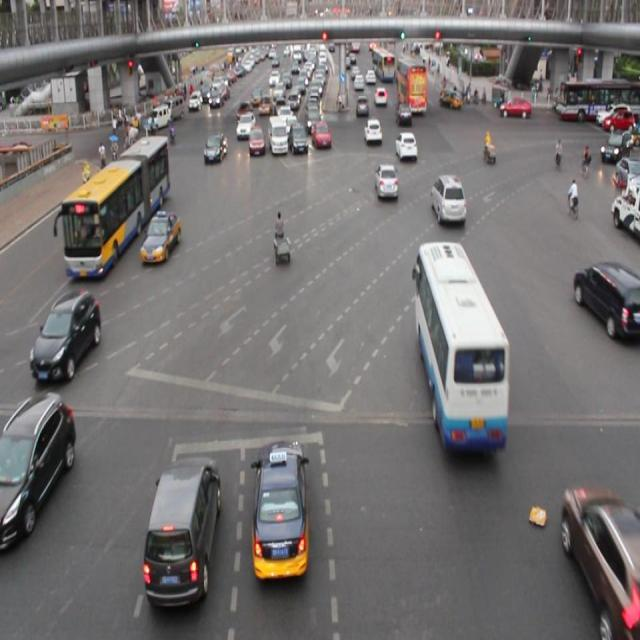car: (563, 486, 640, 640), (1, 394, 71, 545), (252, 437, 312, 583), (31, 292, 100, 384), (573, 258, 640, 346), (141, 212, 180, 264), (431, 172, 466, 226), (374, 164, 399, 199), (394, 130, 418, 162), (204, 132, 228, 164), (288, 120, 308, 154), (247, 126, 266, 157), (234, 109, 254, 138), (312, 120, 331, 150), (364, 117, 382, 145)
truck: (146, 455, 220, 607), (267, 120, 289, 156)
van: (416, 240, 505, 452), (65, 136, 166, 280)
